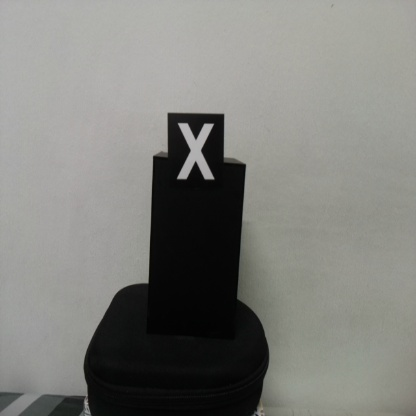id_13: (167, 113, 224, 192)
